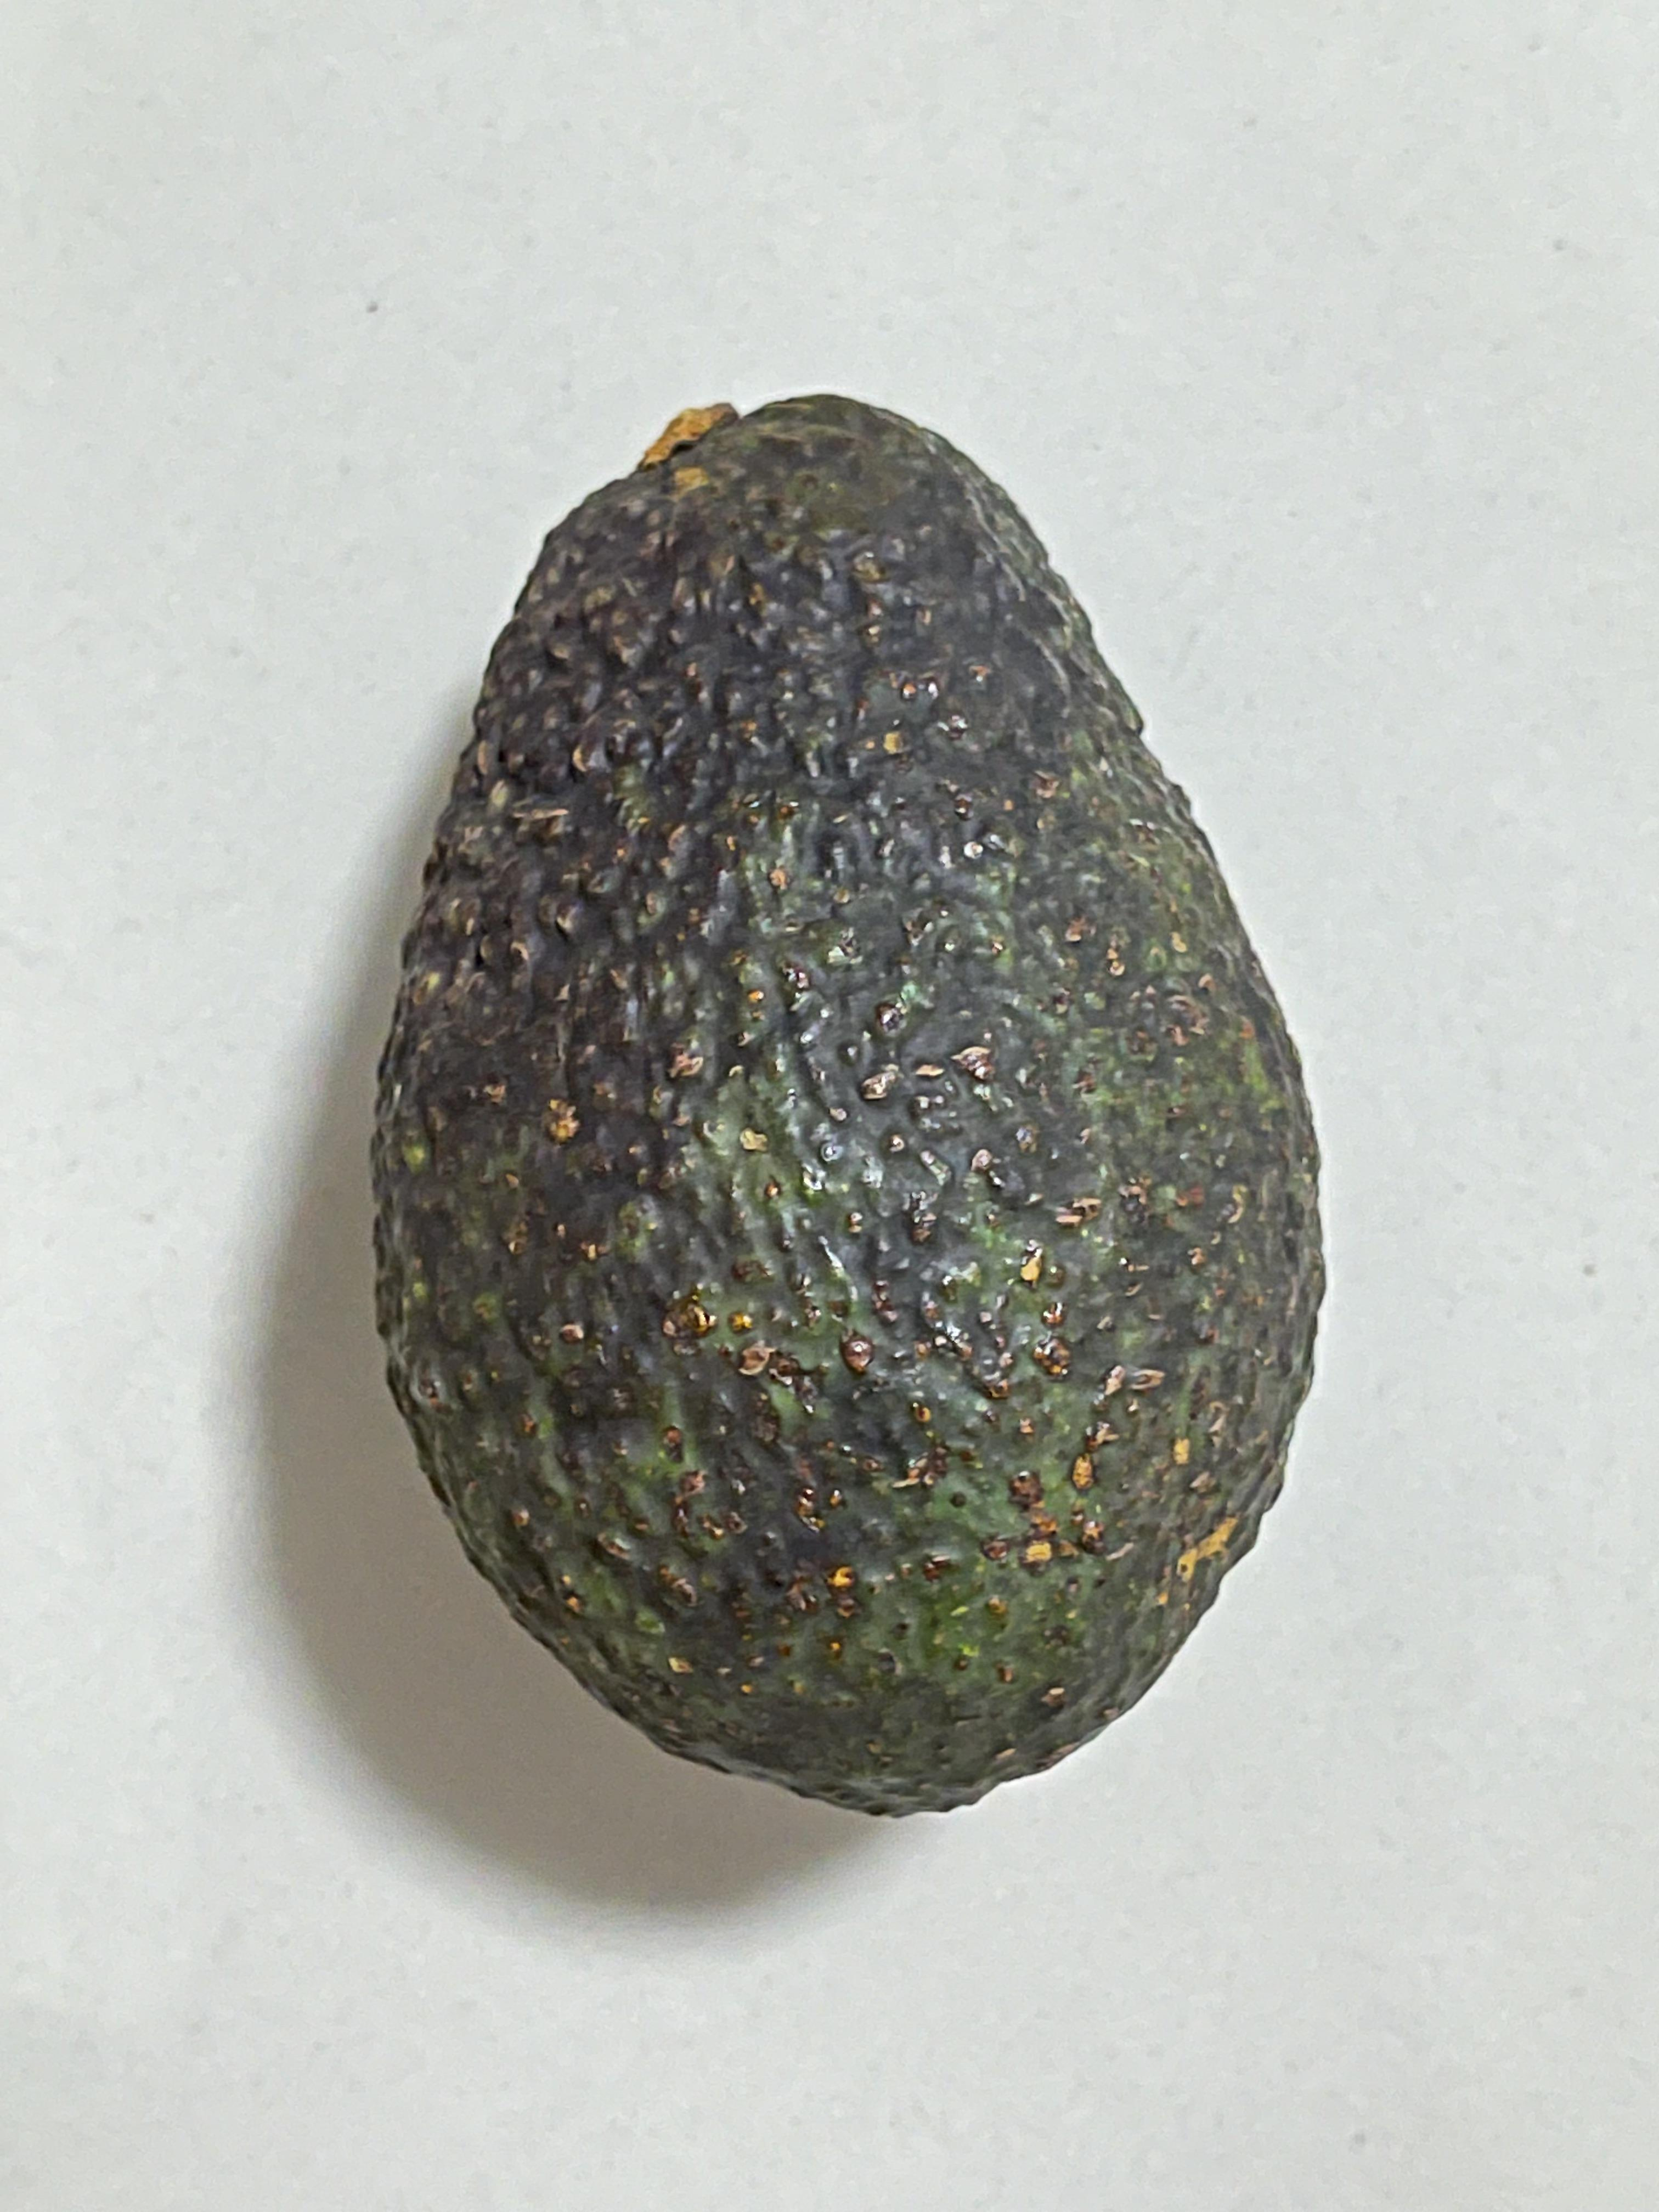Level1: (324, 357, 1389, 1853)
